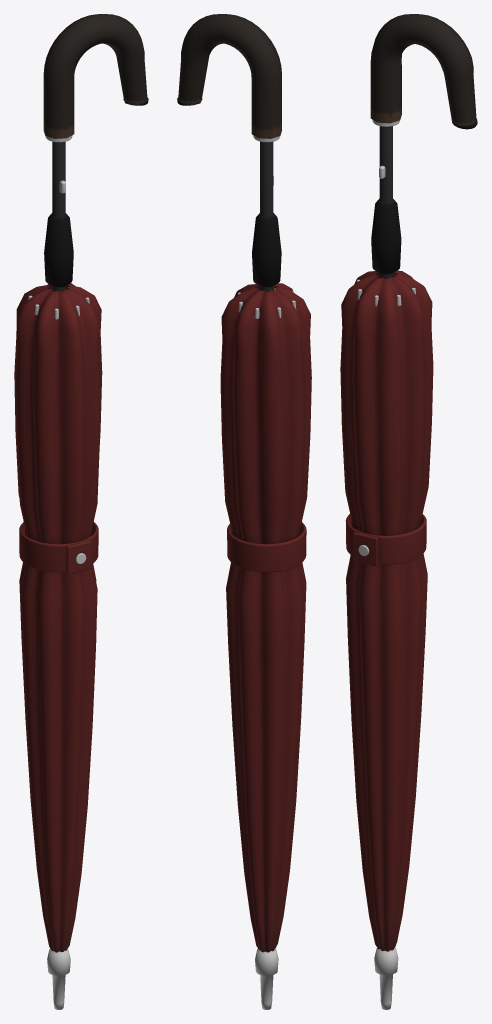
Rendered from HomeUmbrellaRed.fbx.
3 views of the same model, side by side, from view 1: azimuth 30°, elevation 25°; view 2: azimuth 150°, elevation 25°; view 3: azimuth 330°, elevation 25° (orthographic).
Parts seen in each view (by area): view 1: HomeUmbrellaRed; view 2: HomeUmbrellaRed; view 3: HomeUmbrellaRed.
Part boxes in pixels (box(x1,y1,x2,y2)): HomeUmbrellaRed: box(14, 14, 148, 1009); HomeUmbrellaRed: box(177, 14, 311, 1009); HomeUmbrellaRed: box(340, 14, 477, 1009).
Size of the model in its own units: 0.1136 by 0.8397 by 0.0704.
